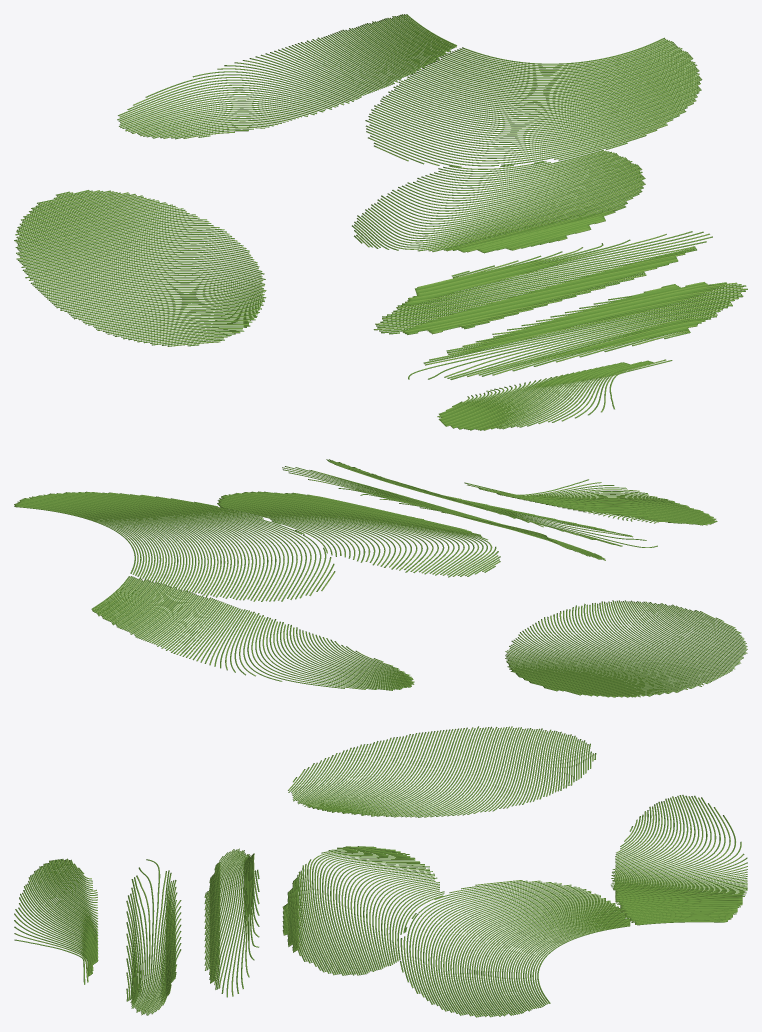
The model's file is Highlands_Tea.glb.
3 renders of one model, top to bottom at view 1: azimuth 30°, elevation 25°; view 2: azimuth 150°, elevation 25°; view 3: azimuth 270°, elevation 25°, orthographic. The views are drawn at different scales.
Parts seen in each view (by area): view 1: Highlands_Tea_Highlands_TeaCanopy_1.004, Highlands_Tea_Highlands_TeaCanopy_2.004, Highlands_Tea_Highlands_TeaCanopy_0.004, Highlands_Tea_Highlands_TeaCanopy_2.015, Highlands_Tea_Highlands_TeaCanopy_1.015, Highlands_Tea_Highlands_TeaCanopy_0.016, Highlands_Tea_Highlands_TeaCanopy_2.019, Highlands_Tea_Highlands_TeaCanopy_2.006, Highlands_Tea_Highlands_TeaCanopy_2.011, Highlands_Tea_Highlands_TeaCanopy_1.006, Highlands_Tea_Highlands_TeaCanopy_0.019, Highlands_Tea_Highlands_TeaCanopy_1.019 (+40 smaller); view 2: Highlands_Tea_Highlands_TeaCanopy_2.006, Highlands_Tea_Highlands_TeaCanopy_1.006, Highlands_Tea_Highlands_TeaCanopy_2.019, Highlands_Tea_Highlands_TeaCanopy_0.006, Highlands_Tea_Highlands_TeaCanopy_0.019, Highlands_Tea_Highlands_TeaCanopy_1.019, Highlands_Tea_Highlands_TeaCanopy_2.015, Highlands_Tea_Highlands_TeaCanopy_1.015, Highlands_Tea_Highlands_TeaCanopy_0.016, Highlands_Tea_Highlands_TeaCanopy_0.007, Highlands_Tea_Highlands_TeaCanopy_1.007, Highlands_Tea_Highlands_TeaCanopy_2.008 (+42 smaller); view 3: Highlands_Tea_Highlands_TeaCanopy_1.013, Highlands_Tea_Highlands_TeaCanopy_0.013, Highlands_Tea_Highlands_TeaCanopy_2.013, Highlands_Tea_Highlands_TeaCanopy_1.004, Highlands_Tea_Highlands_TeaCanopy_2.011, Highlands_Tea_Highlands_TeaCanopy_2.015, Highlands_Tea_Highlands_TeaCanopy_0.004, Highlands_Tea_Highlands_TeaCanopy_1.011, Highlands_Tea_Highlands_TeaCanopy_0.016, Highlands_Tea_Highlands_TeaCanopy_1.015, Highlands_Tea_Highlands_TeaCanopy_2.004, Highlands_Tea_Highlands_TeaCanopy_0.011 (+39 smaller).
Boxes of the visible parts, left/top/right/bottom form: Highlands_Tea_Highlands_TeaCanopy_1.004: left=446, top=219, right=647, bottom=355; Highlands_Tea_Highlands_TeaCanopy_2.004: left=433, top=221, right=646, bottom=353; Highlands_Tea_Highlands_TeaCanopy_0.004: left=444, top=220, right=651, bottom=350; Highlands_Tea_Highlands_TeaCanopy_2.015: left=78, top=241, right=266, bottom=345; Highlands_Tea_Highlands_TeaCanopy_1.015: left=80, top=238, right=266, bottom=346; Highlands_Tea_Highlands_TeaCanopy_0.016: left=81, top=239, right=265, bottom=345; Highlands_Tea_Highlands_TeaCanopy_2.019: left=22, top=190, right=216, bottom=274; Highlands_Tea_Highlands_TeaCanopy_2.006: left=492, top=108, right=651, bottom=217; Highlands_Tea_Highlands_TeaCanopy_2.011: left=411, top=51, right=628, bottom=138; Highlands_Tea_Highlands_TeaCanopy_1.006: left=493, top=105, right=653, bottom=218; Highlands_Tea_Highlands_TeaCanopy_0.019: left=22, top=190, right=213, bottom=274; Highlands_Tea_Highlands_TeaCanopy_1.019: left=21, top=190, right=214, bottom=273; Highlands_Tea_Highlands_TeaCanopy_2.006: left=141, top=491, right=345, bottom=541; Highlands_Tea_Highlands_TeaCanopy_1.006: left=138, top=492, right=346, bottom=541; Highlands_Tea_Highlands_TeaCanopy_2.019: left=505, top=633, right=668, bottom=696; Highlands_Tea_Highlands_TeaCanopy_0.006: left=140, top=491, right=348, bottom=540; Highlands_Tea_Highlands_TeaCanopy_0.019: left=505, top=635, right=667, bottom=697; Highlands_Tea_Highlands_TeaCanopy_1.019: left=506, top=633, right=668, bottom=697; Highlands_Tea_Highlands_TeaCanopy_2.015: left=542, top=600, right=737, bottom=669; Highlands_Tea_Highlands_TeaCanopy_1.015: left=544, top=601, right=739, bottom=670; Highlands_Tea_Highlands_TeaCanopy_0.016: left=540, top=600, right=741, bottom=669; Highlands_Tea_Highlands_TeaCanopy_0.007: left=276, top=504, right=477, bottom=572; Highlands_Tea_Highlands_TeaCanopy_1.007: left=274, top=503, right=478, bottom=573; Highlands_Tea_Highlands_TeaCanopy_2.008: left=271, top=504, right=480, bottom=572; Highlands_Tea_Highlands_TeaCanopy_1.013: left=614, top=849, right=747, bottom=907; Highlands_Tea_Highlands_TeaCanopy_0.013: left=614, top=850, right=747, bottom=907; Highlands_Tea_Highlands_TeaCanopy_2.013: left=615, top=849, right=747, bottom=907; Highlands_Tea_Highlands_TeaCanopy_1.004: left=148, top=871, right=303, bottom=975; Highlands_Tea_Highlands_TeaCanopy_2.011: left=459, top=907, right=617, bottom=977; Highlands_Tea_Highlands_TeaCanopy_2.015: left=302, top=749, right=459, bottom=815; Highlands_Tea_Highlands_TeaCanopy_0.004: left=146, top=870, right=303, bottom=977; Highlands_Tea_Highlands_TeaCanopy_1.011: left=458, top=907, right=617, bottom=976; Highlands_Tea_Highlands_TeaCanopy_0.016: left=302, top=749, right=459, bottom=815; Highlands_Tea_Highlands_TeaCanopy_1.015: left=302, top=749, right=459, bottom=814; Highlands_Tea_Highlands_TeaCanopy_2.004: left=150, top=868, right=302, bottom=974; Highlands_Tea_Highlands_TeaCanopy_0.011: left=458, top=907, right=617, bottom=976.
Size of the model in its own units: 1273 by 166 by 1202.
